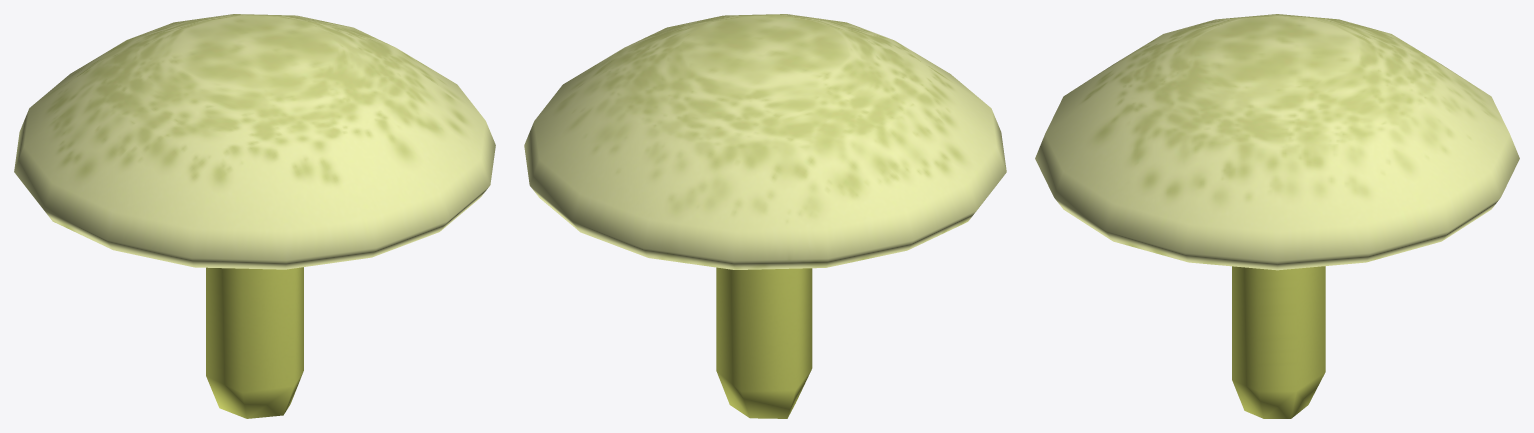
File: Mushroom_2.fbx
3 views of the same model, side by side, from view 1: azimuth 30°, elevation 25°; view 2: azimuth 150°, elevation 25°; view 3: azimuth 270°, elevation 25° (orthographic).
Visible parts, largest first — view 1: Mushroom_2; view 2: Mushroom_2; view 3: Mushroom_2.
Boxes of the visible parts, box(x1,y1,x2,y2) form: Mushroom_2: box(14, 14, 495, 418); Mushroom_2: box(524, 14, 1006, 418); Mushroom_2: box(1035, 14, 1519, 418).
Size of the model in its own units: 3.71 by 3.02 by 3.71.
Materials: 1 (1 with a texture image).
